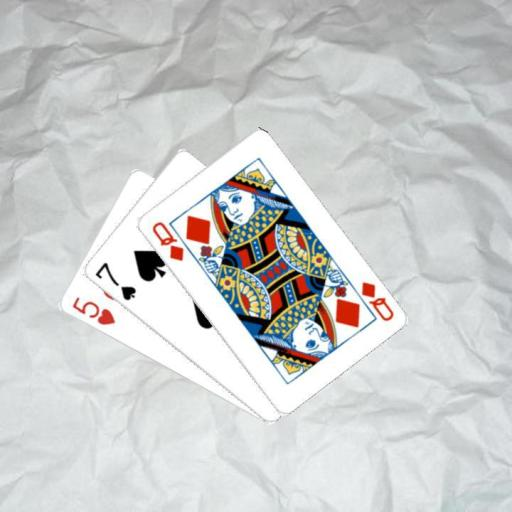5H: (68, 293, 117, 327)
7S: (91, 259, 137, 302)
QD: (357, 278, 395, 323), (148, 218, 185, 263)
